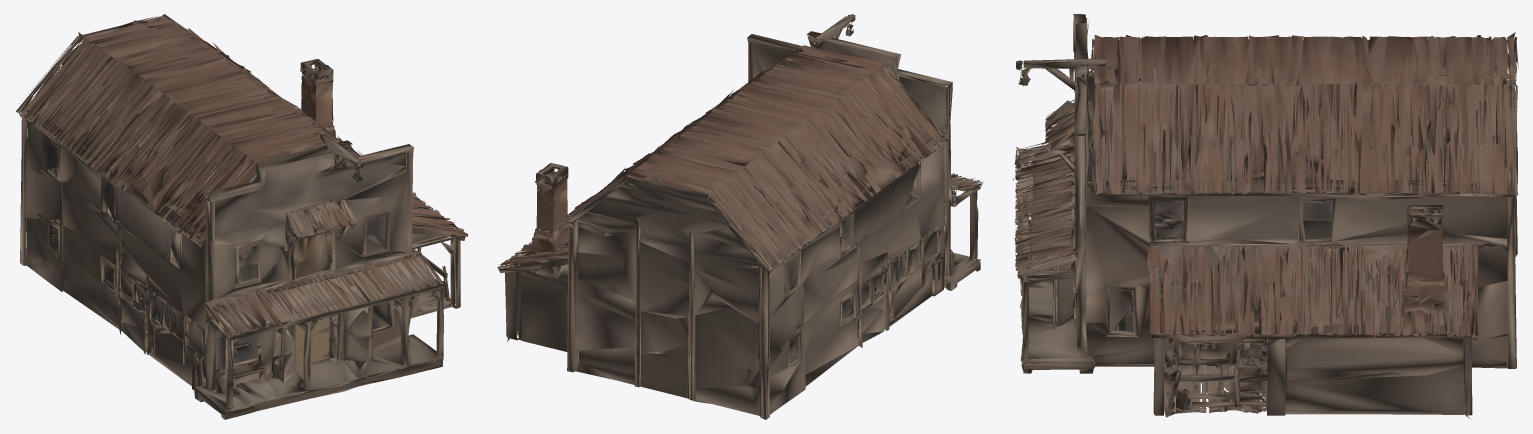
The model's file is livery.glb.
The picture shows the model from 3 angles, left to right: view 1: azimuth 30°, elevation 25°; view 2: azimuth 150°, elevation 25°; view 3: azimuth 270°, elevation 25°; orthographic projection. The views are drawn at different scales.
Visible parts, largest first — view 1: LO.001; view 2: LO.001; view 3: LO.001.
Part boxes in pixels (<box>): LO.001: <box>16,14,467,419</box>; LO.001: <box>497,14,983,419</box>; LO.001: <box>1013,14,1518,418</box>.
Bounding box in the file's own units: 16.09 × 11.9 × 20.09.
Materials: 1 (1 with a texture image).
